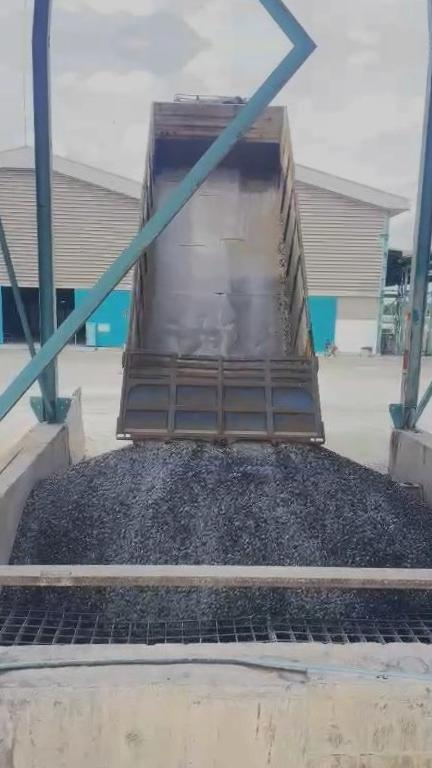gravel: (12, 442, 432, 567), (2, 587, 432, 620)
